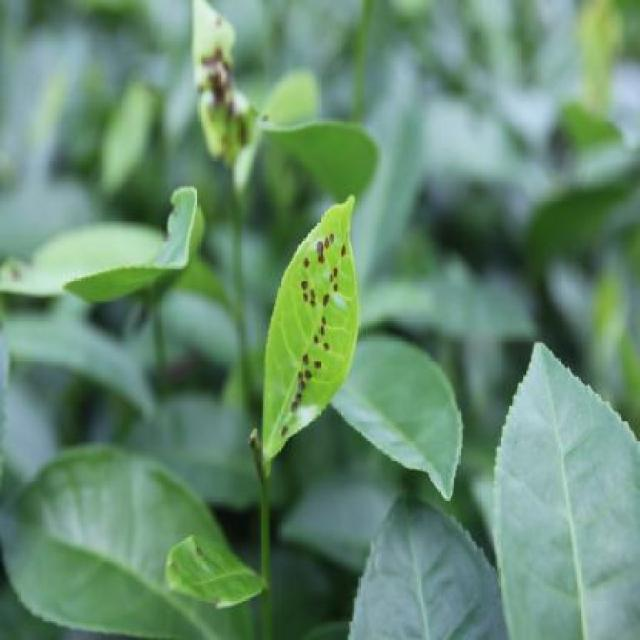Tea Mosquito bug infested leaf: (260, 175, 372, 476)
